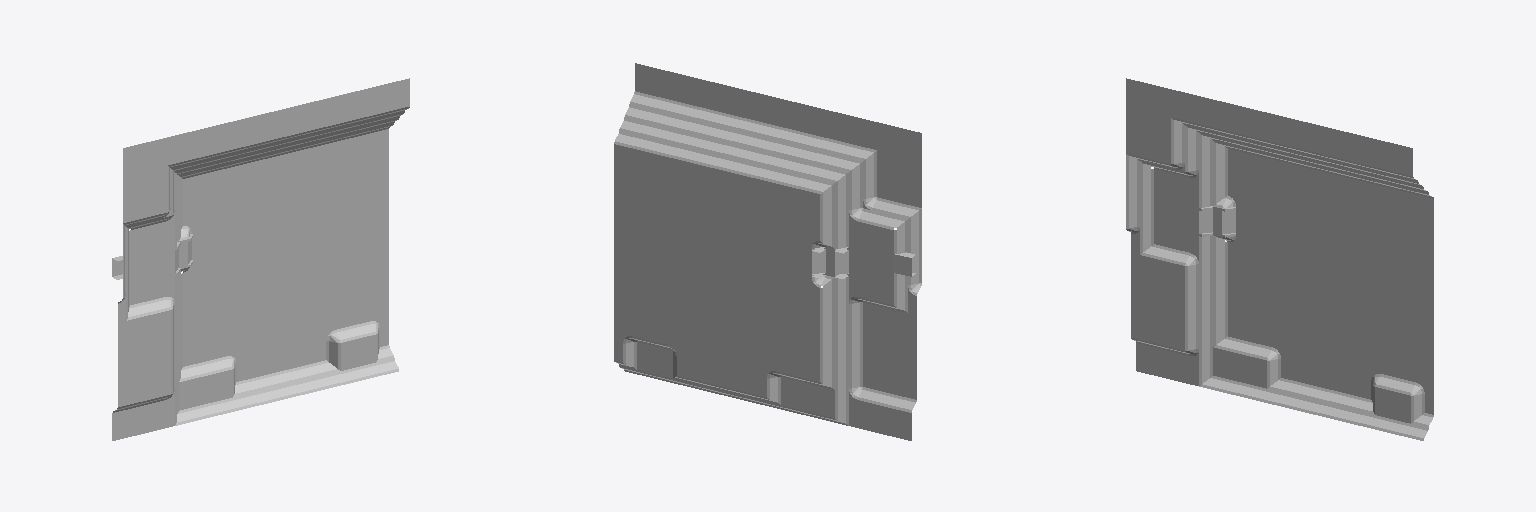
Rendered from Plat_full_07_17.obj.
3 views of the same model, side by side, from view 1: azimuth 30°, elevation 25°; view 2: azimuth 150°, elevation 25°; view 3: azimuth 330°, elevation 25° (orthographic).
Parts seen in each view (by area): view 1: map; view 2: map; view 3: map.
Part boxes in pixels (x1,y1,x2,y2): map: (112,78,409,440); map: (614,63,921,440); map: (1126,78,1433,440).
Size of the model in its own units: 32 by 32 by 4.